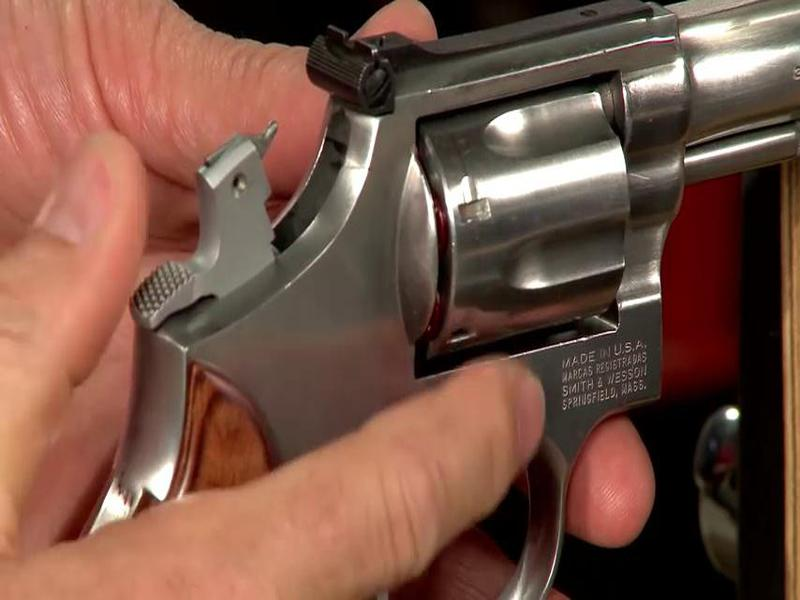Revolver: (137, 10, 800, 522)
